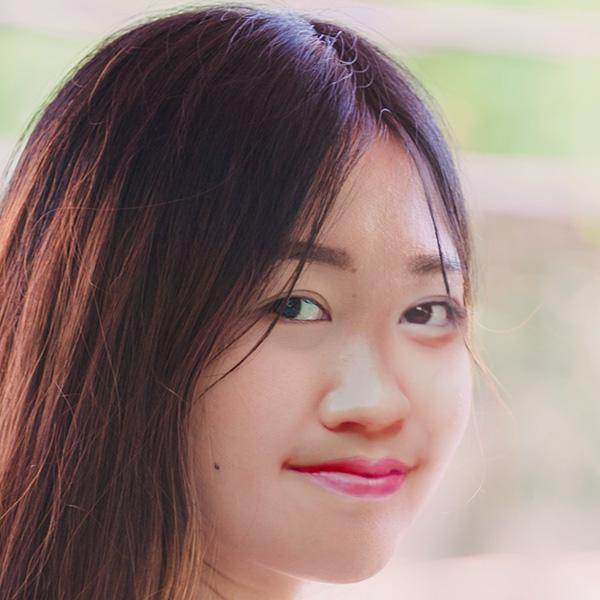Eyes: (254, 278, 336, 335), (391, 281, 464, 345)
